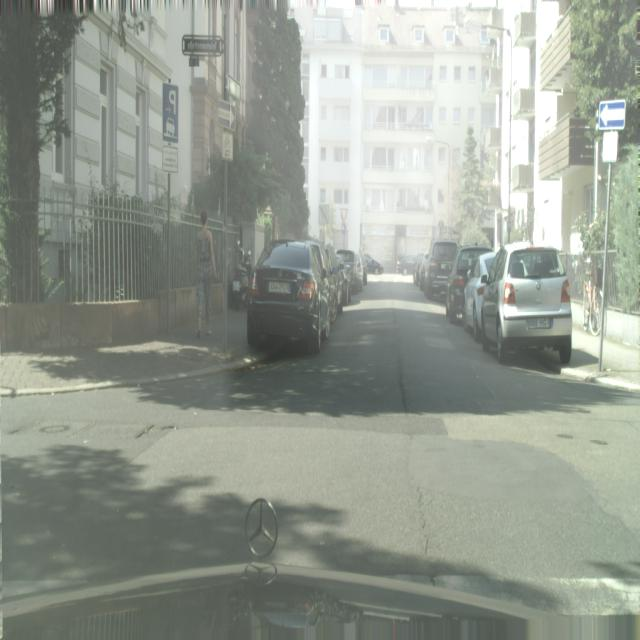bus: (227, 244, 251, 311)
car: (583, 262, 602, 337)
person: (195, 208, 217, 338)
truck: (480, 241, 573, 366), (247, 238, 332, 353), (445, 246, 494, 324), (461, 252, 497, 339), (423, 239, 458, 299), (324, 244, 342, 316), (336, 249, 363, 295), (413, 250, 429, 286), (398, 252, 417, 276), (363, 253, 383, 274)
